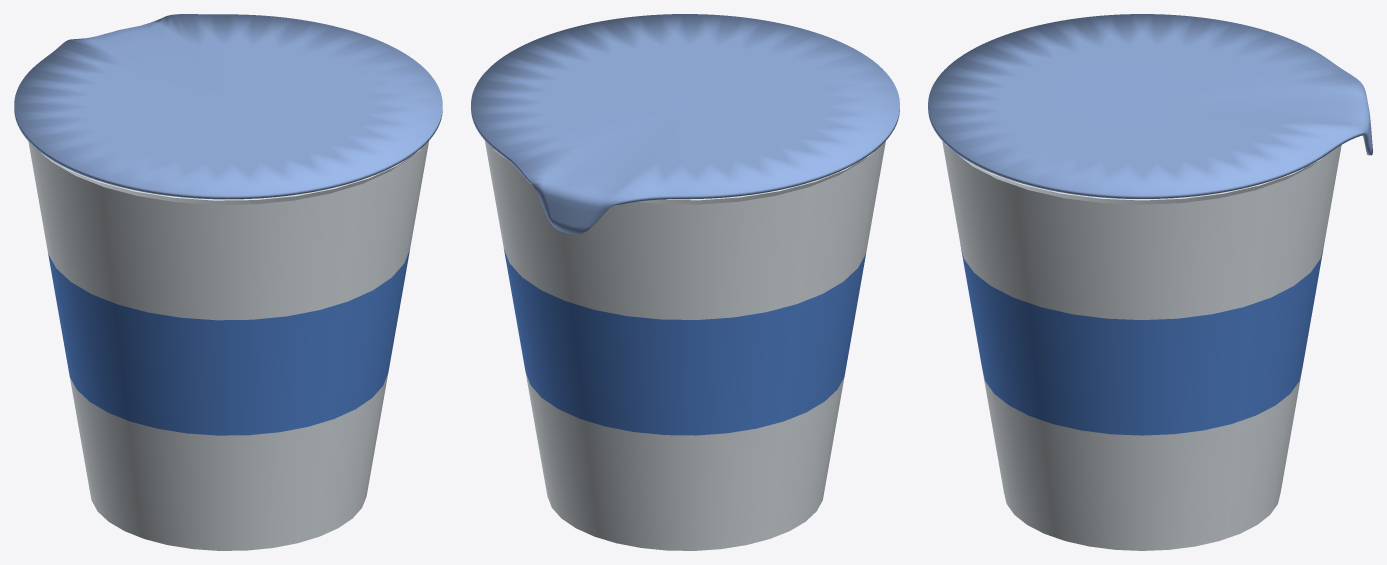
The model's file is jogurt.fbx.
3 renders of one model, left to right at view 1: azimuth 30°, elevation 25°; view 2: azimuth 150°, elevation 25°; view 3: azimuth 270°, elevation 25°, orthographic.
Visible parts, largest first — view 1: Cylinder.042, Cylinder.043; view 2: Cylinder.042, Cylinder.043; view 3: Cylinder.042, Cylinder.043.
Part boxes in pixels (x1,y1,x2,y2): Cylinder.042: (28, 141, 428, 550); Cylinder.043: (14, 14, 442, 199); Cylinder.042: (485, 141, 885, 550); Cylinder.043: (471, 14, 899, 234); Cylinder.042: (942, 141, 1341, 550); Cylinder.043: (928, 14, 1372, 198).
Size of the model in its own units: 87.8 by 87.62 by 91.09.
